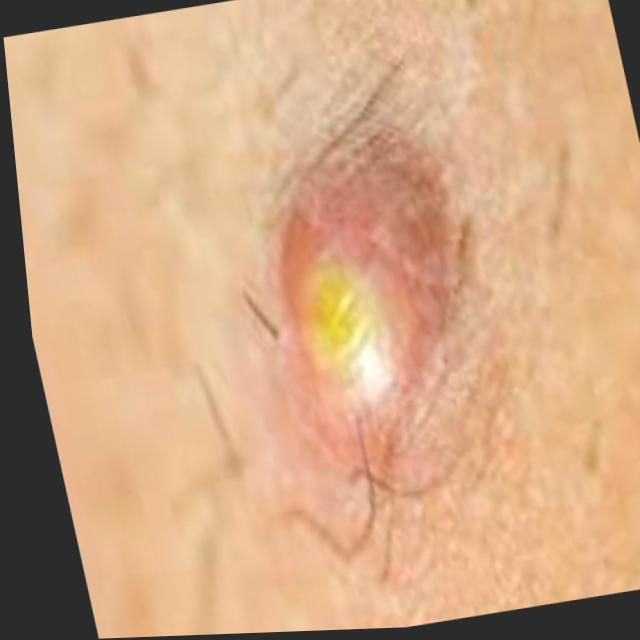pustule: (219, 132, 498, 493)
